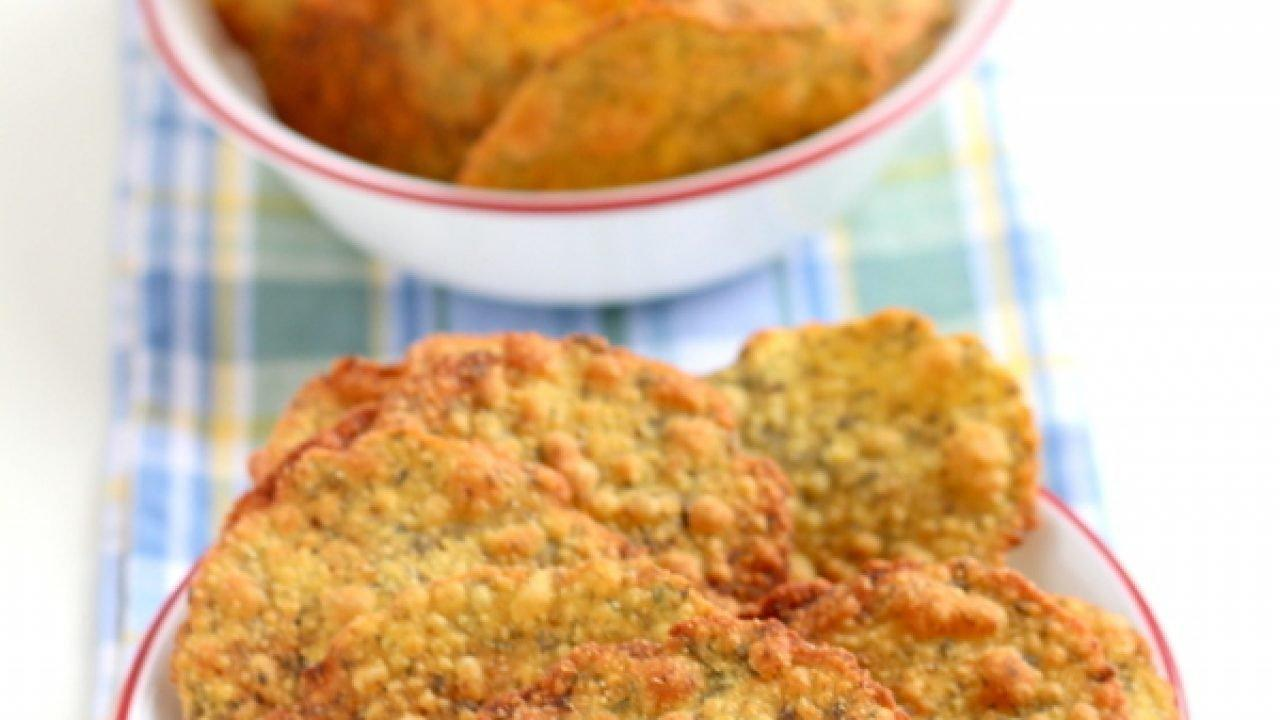kachori: (206, 318, 1119, 701)
